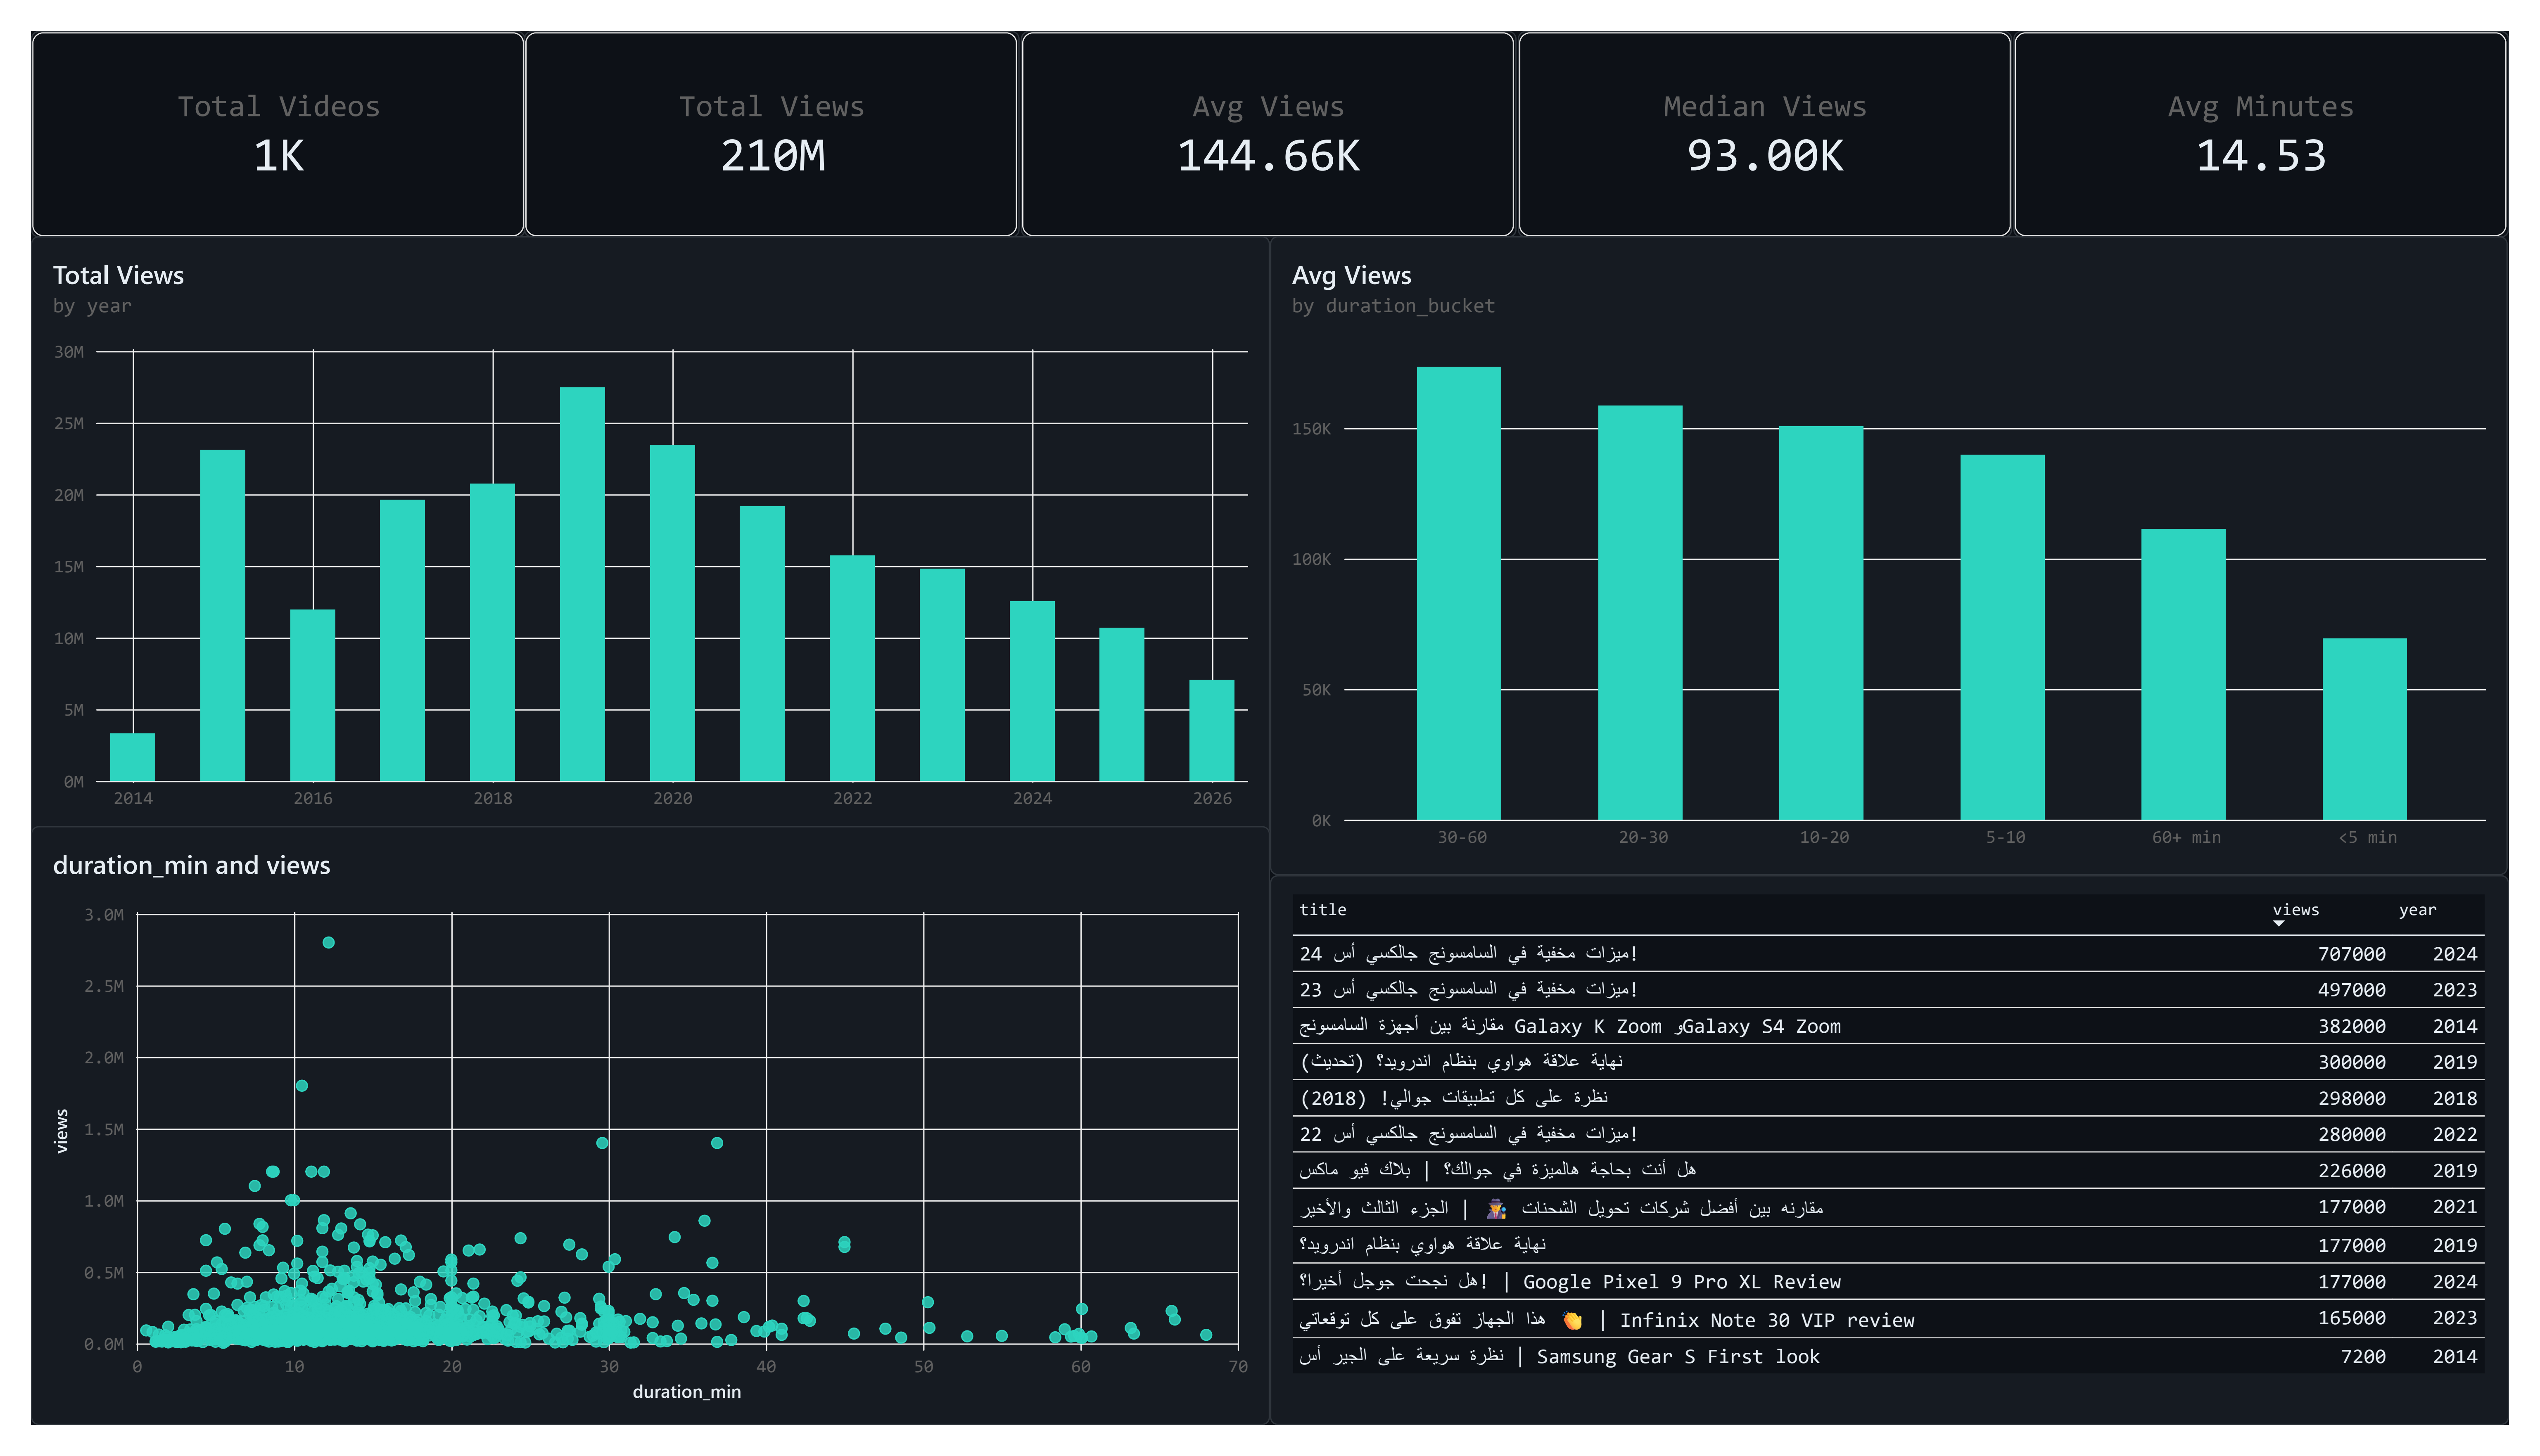

What the dashboard file says about the page in this screenshot:
{"tool":"powerbi","page":{"name":"Page 1","canvas":[1920,1080],"ordinal":0},"visuals":[{"type":"cardVisual","fields":{"Data":["AndroidBasha_powerbi.Total Videos"]},"box":[0,0,383.1,160.1],"z":0,"group":"g1"},{"type":"cardVisual","fields":{"Data":["AndroidBasha_powerbi.Total Views"]},"box":[382.5,0,383.8,160.5],"z":1,"group":"g1"},{"type":"cardVisual","fields":{"Data":["AndroidBasha_powerbi.Avg Views"]},"box":[767,0,383.8,160.5],"z":2,"group":"g1"},{"type":"cardVisual","fields":{"Data":["AndroidBasha_powerbi.Median Views"]},"box":[1151.6,0,383.8,160.5],"z":3,"group":"g1"},{"type":"cardVisual","fields":{"Data":["AndroidBasha_powerbi.Avg Minutes"]},"box":[1536.2,0,383.8,160.5],"z":4,"group":"g1"},{"type":"clusteredColumnChart","fields":{"Category":["AndroidBasha_powerbi.year"],"Y":["AndroidBasha_powerbi.Total Views"]},"box":[0,159,960,465.4],"z":5},{"type":"clusteredColumnChart","fields":{"Category":["AndroidBasha_powerbi.duration_bucket"],"Y":["AndroidBasha_powerbi.Avg Views"]},"box":[960,159,958.5,494.6],"z":6},{"type":"scatterChart","fields":{"X":["AndroidBasha_powerbi.duration_min"],"Y":["AndroidBasha_powerbi.views"]},"box":[0,615.7,960,464],"z":7},{"type":"tableEx","fields":{"Values":["AndroidBasha_powerbi.title","AndroidBasha_powerbi.views","AndroidBasha_powerbi.year"]},"box":[960,653.6,960,426],"z":8},{"type":"group","id":"g1","title":"Group 1","box":[0,0,1920,160.5],"z":9}]}

Visuals, with their boxes on the page's 1920x1080 design canvas (x1, y1, x2, y2). These are canvas units, not pixel positions in the 2540x1456 screenshot, which may show the page scaled, cropped or inside an application window:
cardVisual - AndroidBasha_powerbi.Total Videos: (0,0,383,160)
cardVisual - AndroidBasha_powerbi.Total Views: (382,0,766,160)
cardVisual - AndroidBasha_powerbi.Avg Views: (767,0,1151,160)
cardVisual - AndroidBasha_powerbi.Median Views: (1152,0,1535,160)
cardVisual - AndroidBasha_powerbi.Avg Minutes: (1536,0,1920,160)
clusteredColumnChart - AndroidBasha_powerbi.year x AndroidBasha_powerbi.Total Views: (0,159,960,624)
clusteredColumnChart - AndroidBasha_powerbi.duration_bucket x AndroidBasha_powerbi.Avg Views: (960,159,1918,654)
scatterChart - AndroidBasha_powerbi.duration_min x AndroidBasha_powerbi.views: (0,616,960,1080)
tableEx - AndroidBasha_powerbi.title x AndroidBasha_powerbi.views: (960,654,1920,1080)
"Group 1" group: (0,0,1920,160)
